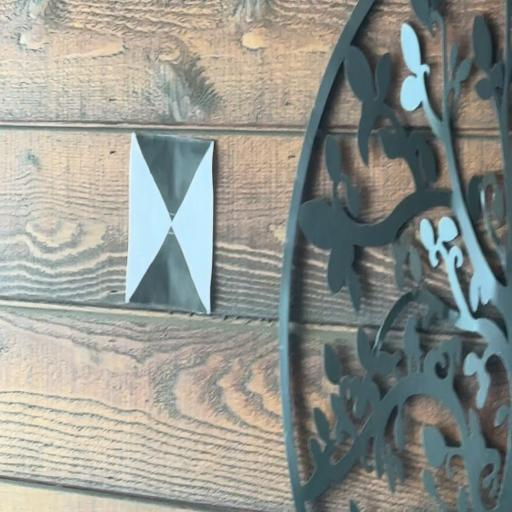target: (124, 132, 213, 314)
